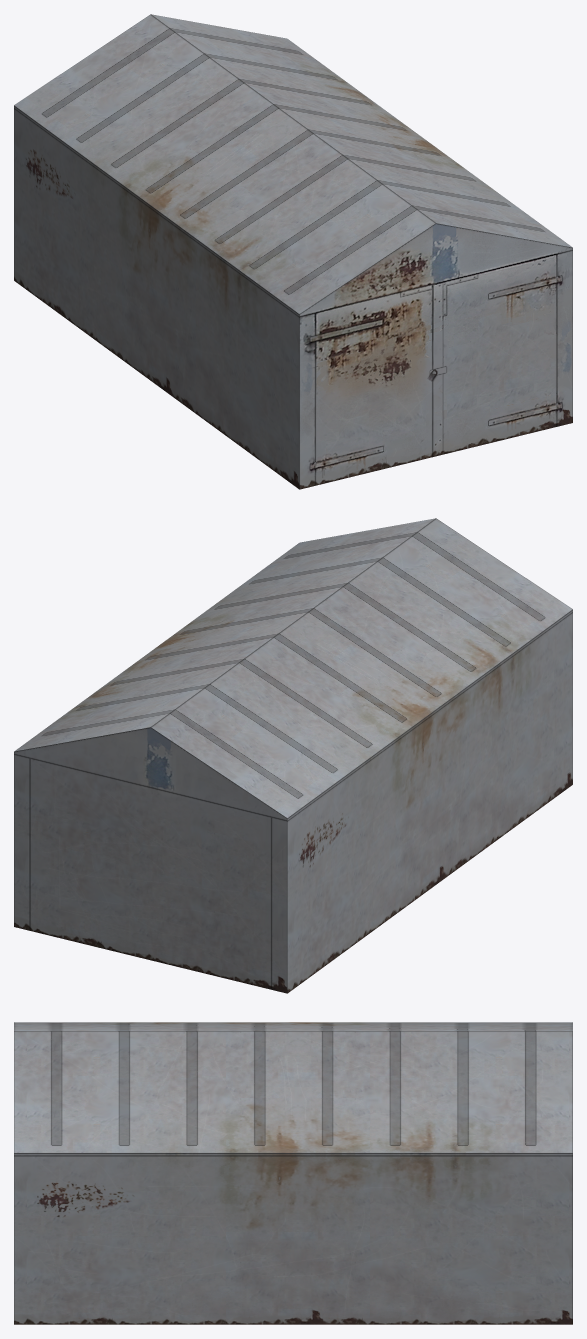
File: prlGarage.glb
The picture shows the model from 3 angles, top to bottom: view 1: azimuth 30°, elevation 25°; view 2: azimuth 150°, elevation 25°; view 3: azimuth 270°, elevation 25°; orthographic projection. The views are drawn at different scales.
Visible parts, largest first — view 1: SMGarage.obj; view 2: SMGarage.obj; view 3: SMGarage.obj.
Boxes of the visible parts, box(x1,y1,x2,y2) form: SMGarage.obj: box(14, 14, 572, 489); SMGarage.obj: box(14, 518, 572, 993); SMGarage.obj: box(14, 1022, 572, 1324).
Size of the model in its own units: 43.84 by 35.7 by 79.29.
1 material, 1 textured.
